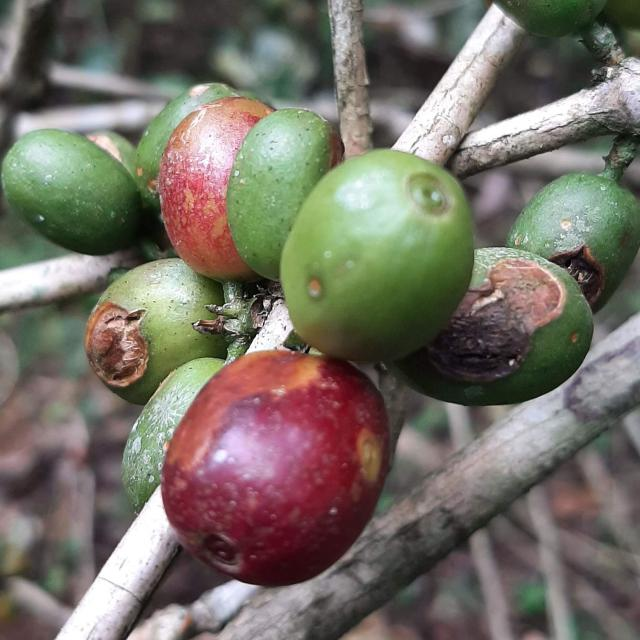green: (281, 149, 474, 361), (391, 247, 594, 406), (84, 258, 226, 405), (226, 108, 343, 280), (507, 173, 640, 312), (1, 129, 140, 255), (121, 358, 224, 514), (136, 82, 240, 212)
red: (161, 351, 390, 586)
yellow: (158, 96, 274, 282)
